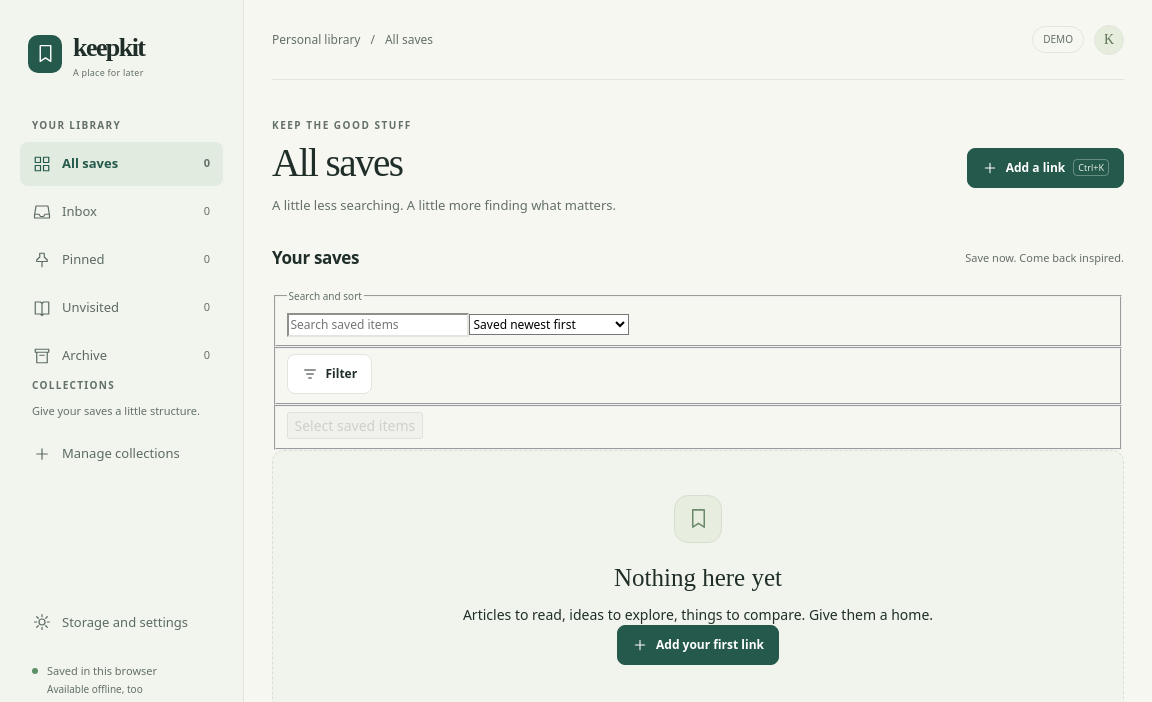
Test: opens the link form, saves a personal link, and returns to the library
Check: the heading "Nothing here yet" is shown, box [614,564,782,591]
Click the button "Add a link Ctrl+K": (1045, 168) [967,148,1124,188]
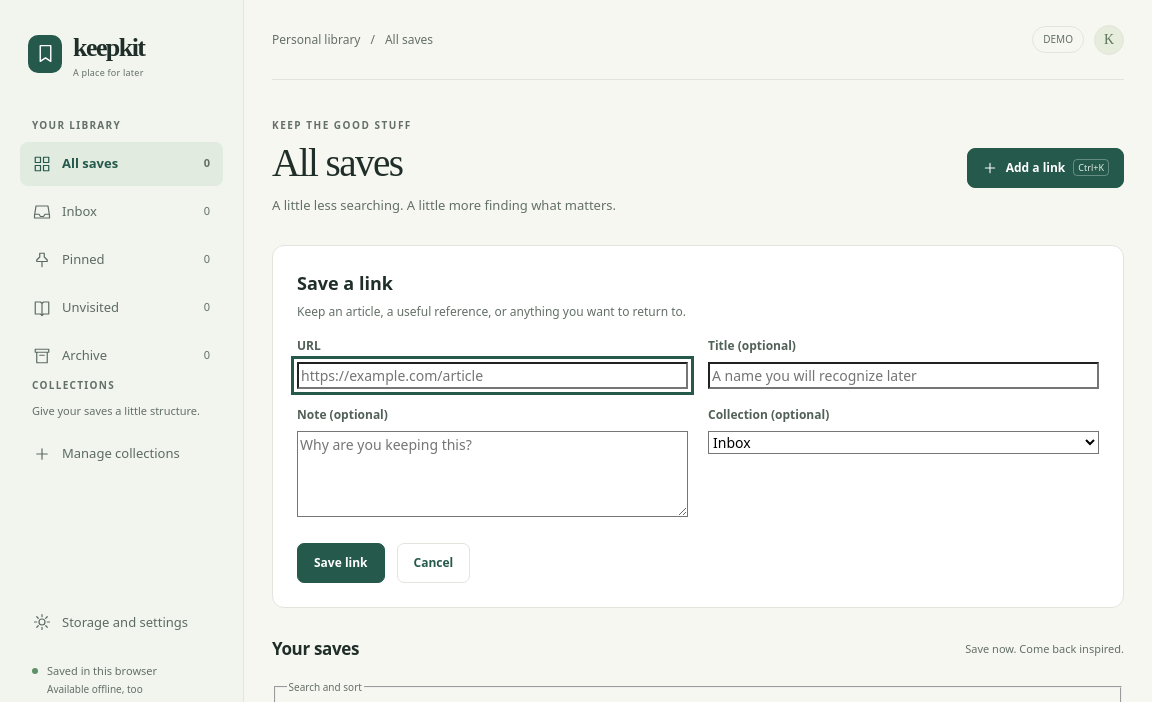
In the field labelled "Title (optional)": (904, 376) [708,362,1099,389], type "Project reference"
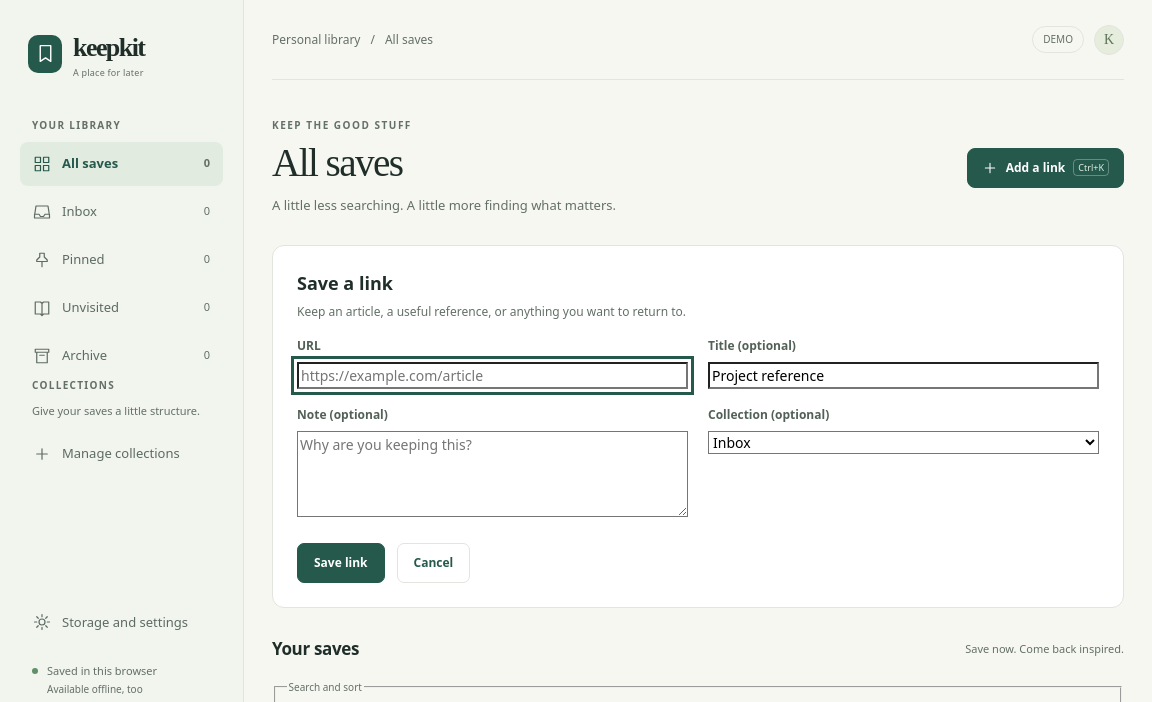
In the field labelled "URL": (492, 376) [297,362,688,389], type "https://example.com/reference"
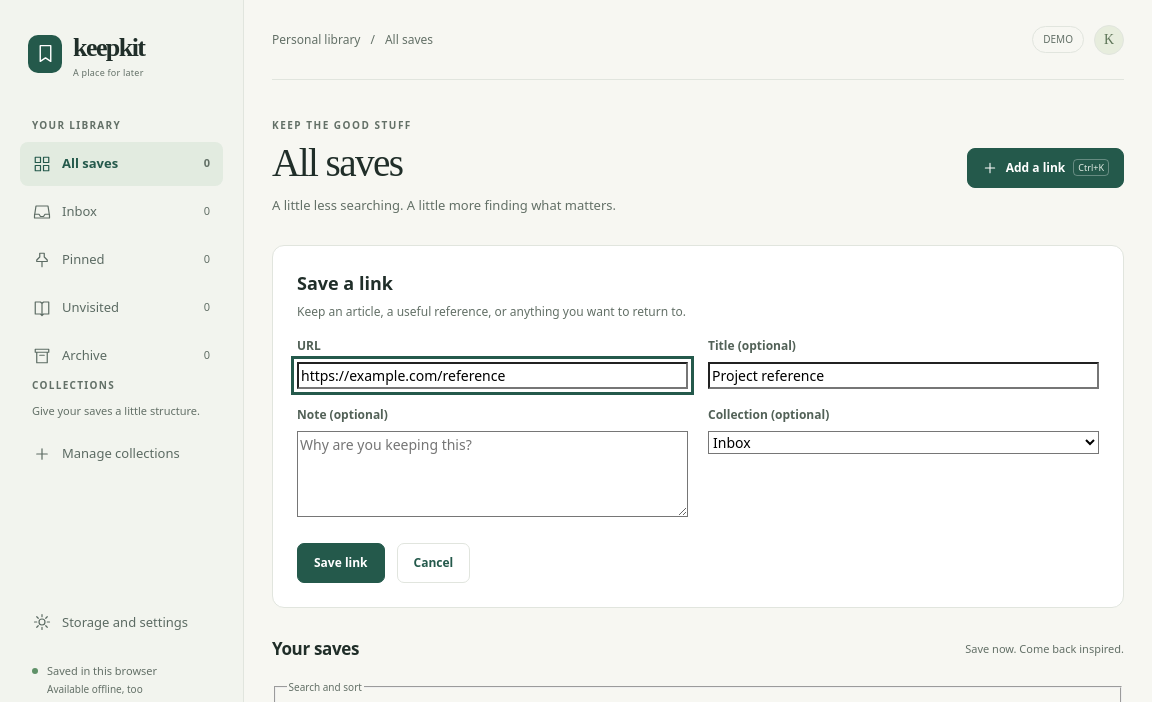
Click the button "Save link": (341, 563) [297,543,384,583]
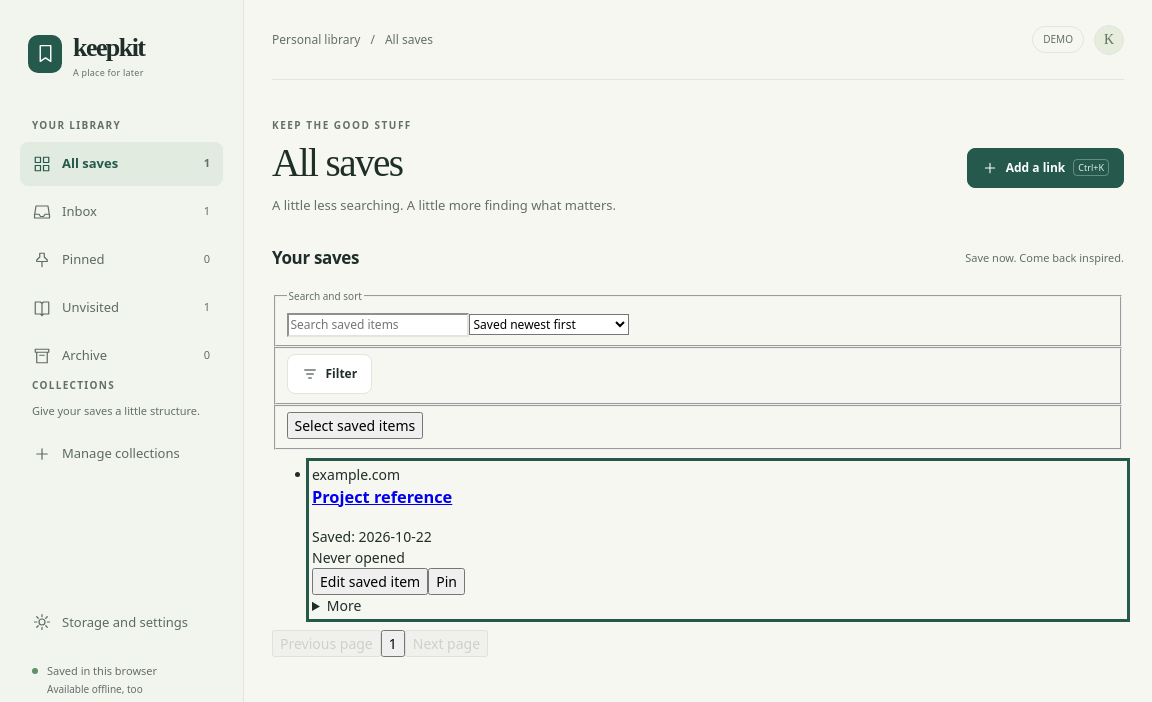
Check: the list item "Project reference" is shown, box [312,465,465,615]
